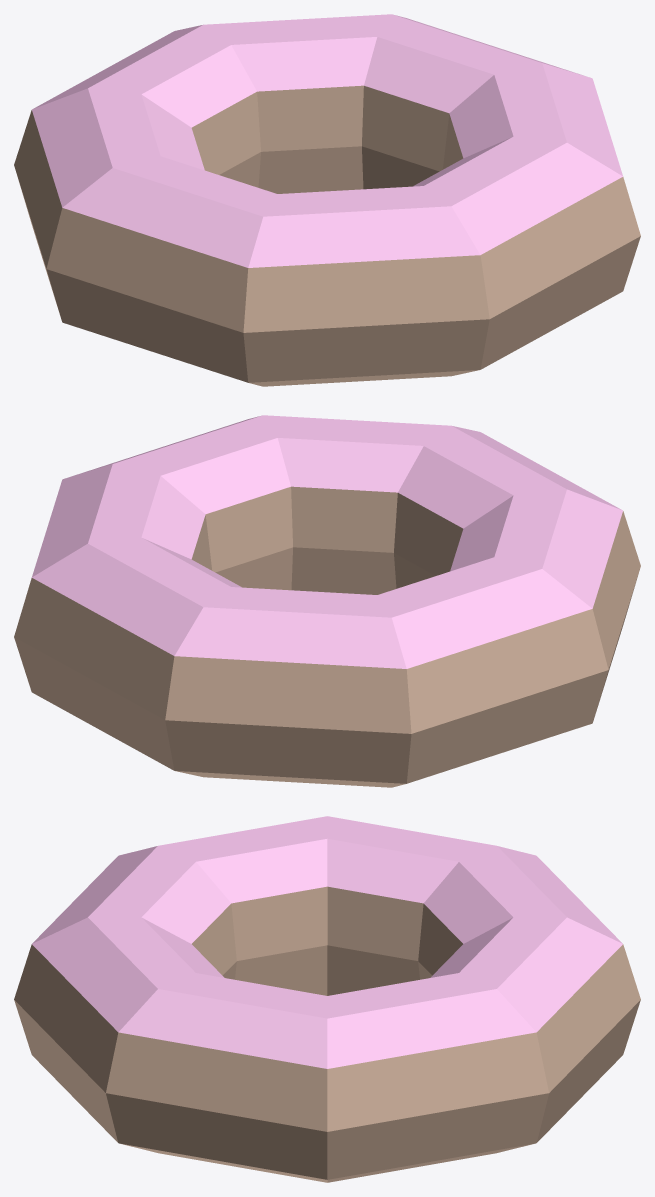
File: Donut.fbx
3 renders of one model, top to bottom at view 1: azimuth 30°, elevation 25°; view 2: azimuth 150°, elevation 25°; view 3: azimuth 270°, elevation 25°, orthographic. The views are drawn at different scales.
Parts seen in each view (by area): view 1: Donut; view 2: Donut; view 3: Donut.
Part boxes in pixels (<box>): Donut: <box>14,14,640,386</box>; Donut: <box>14,415,640,787</box>; Donut: <box>14,816,640,1182</box>.
Bounding box in the file's own units: 0.1384 × 0.04 × 0.1384.
